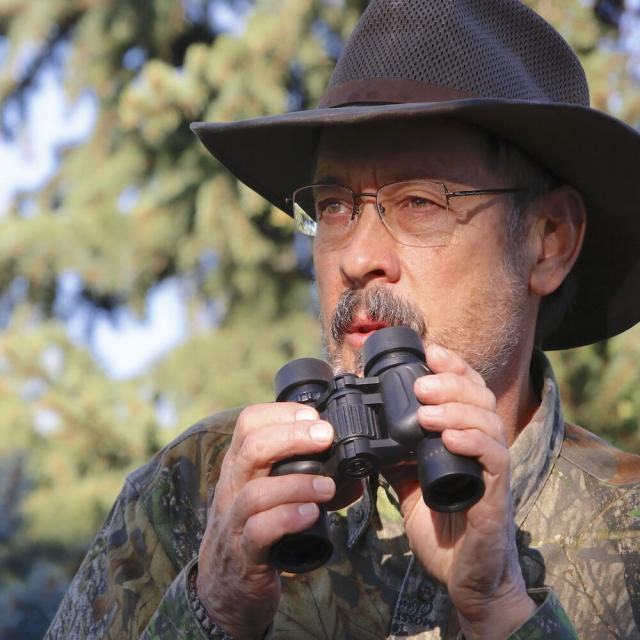Binocular: (263, 323, 489, 571)
